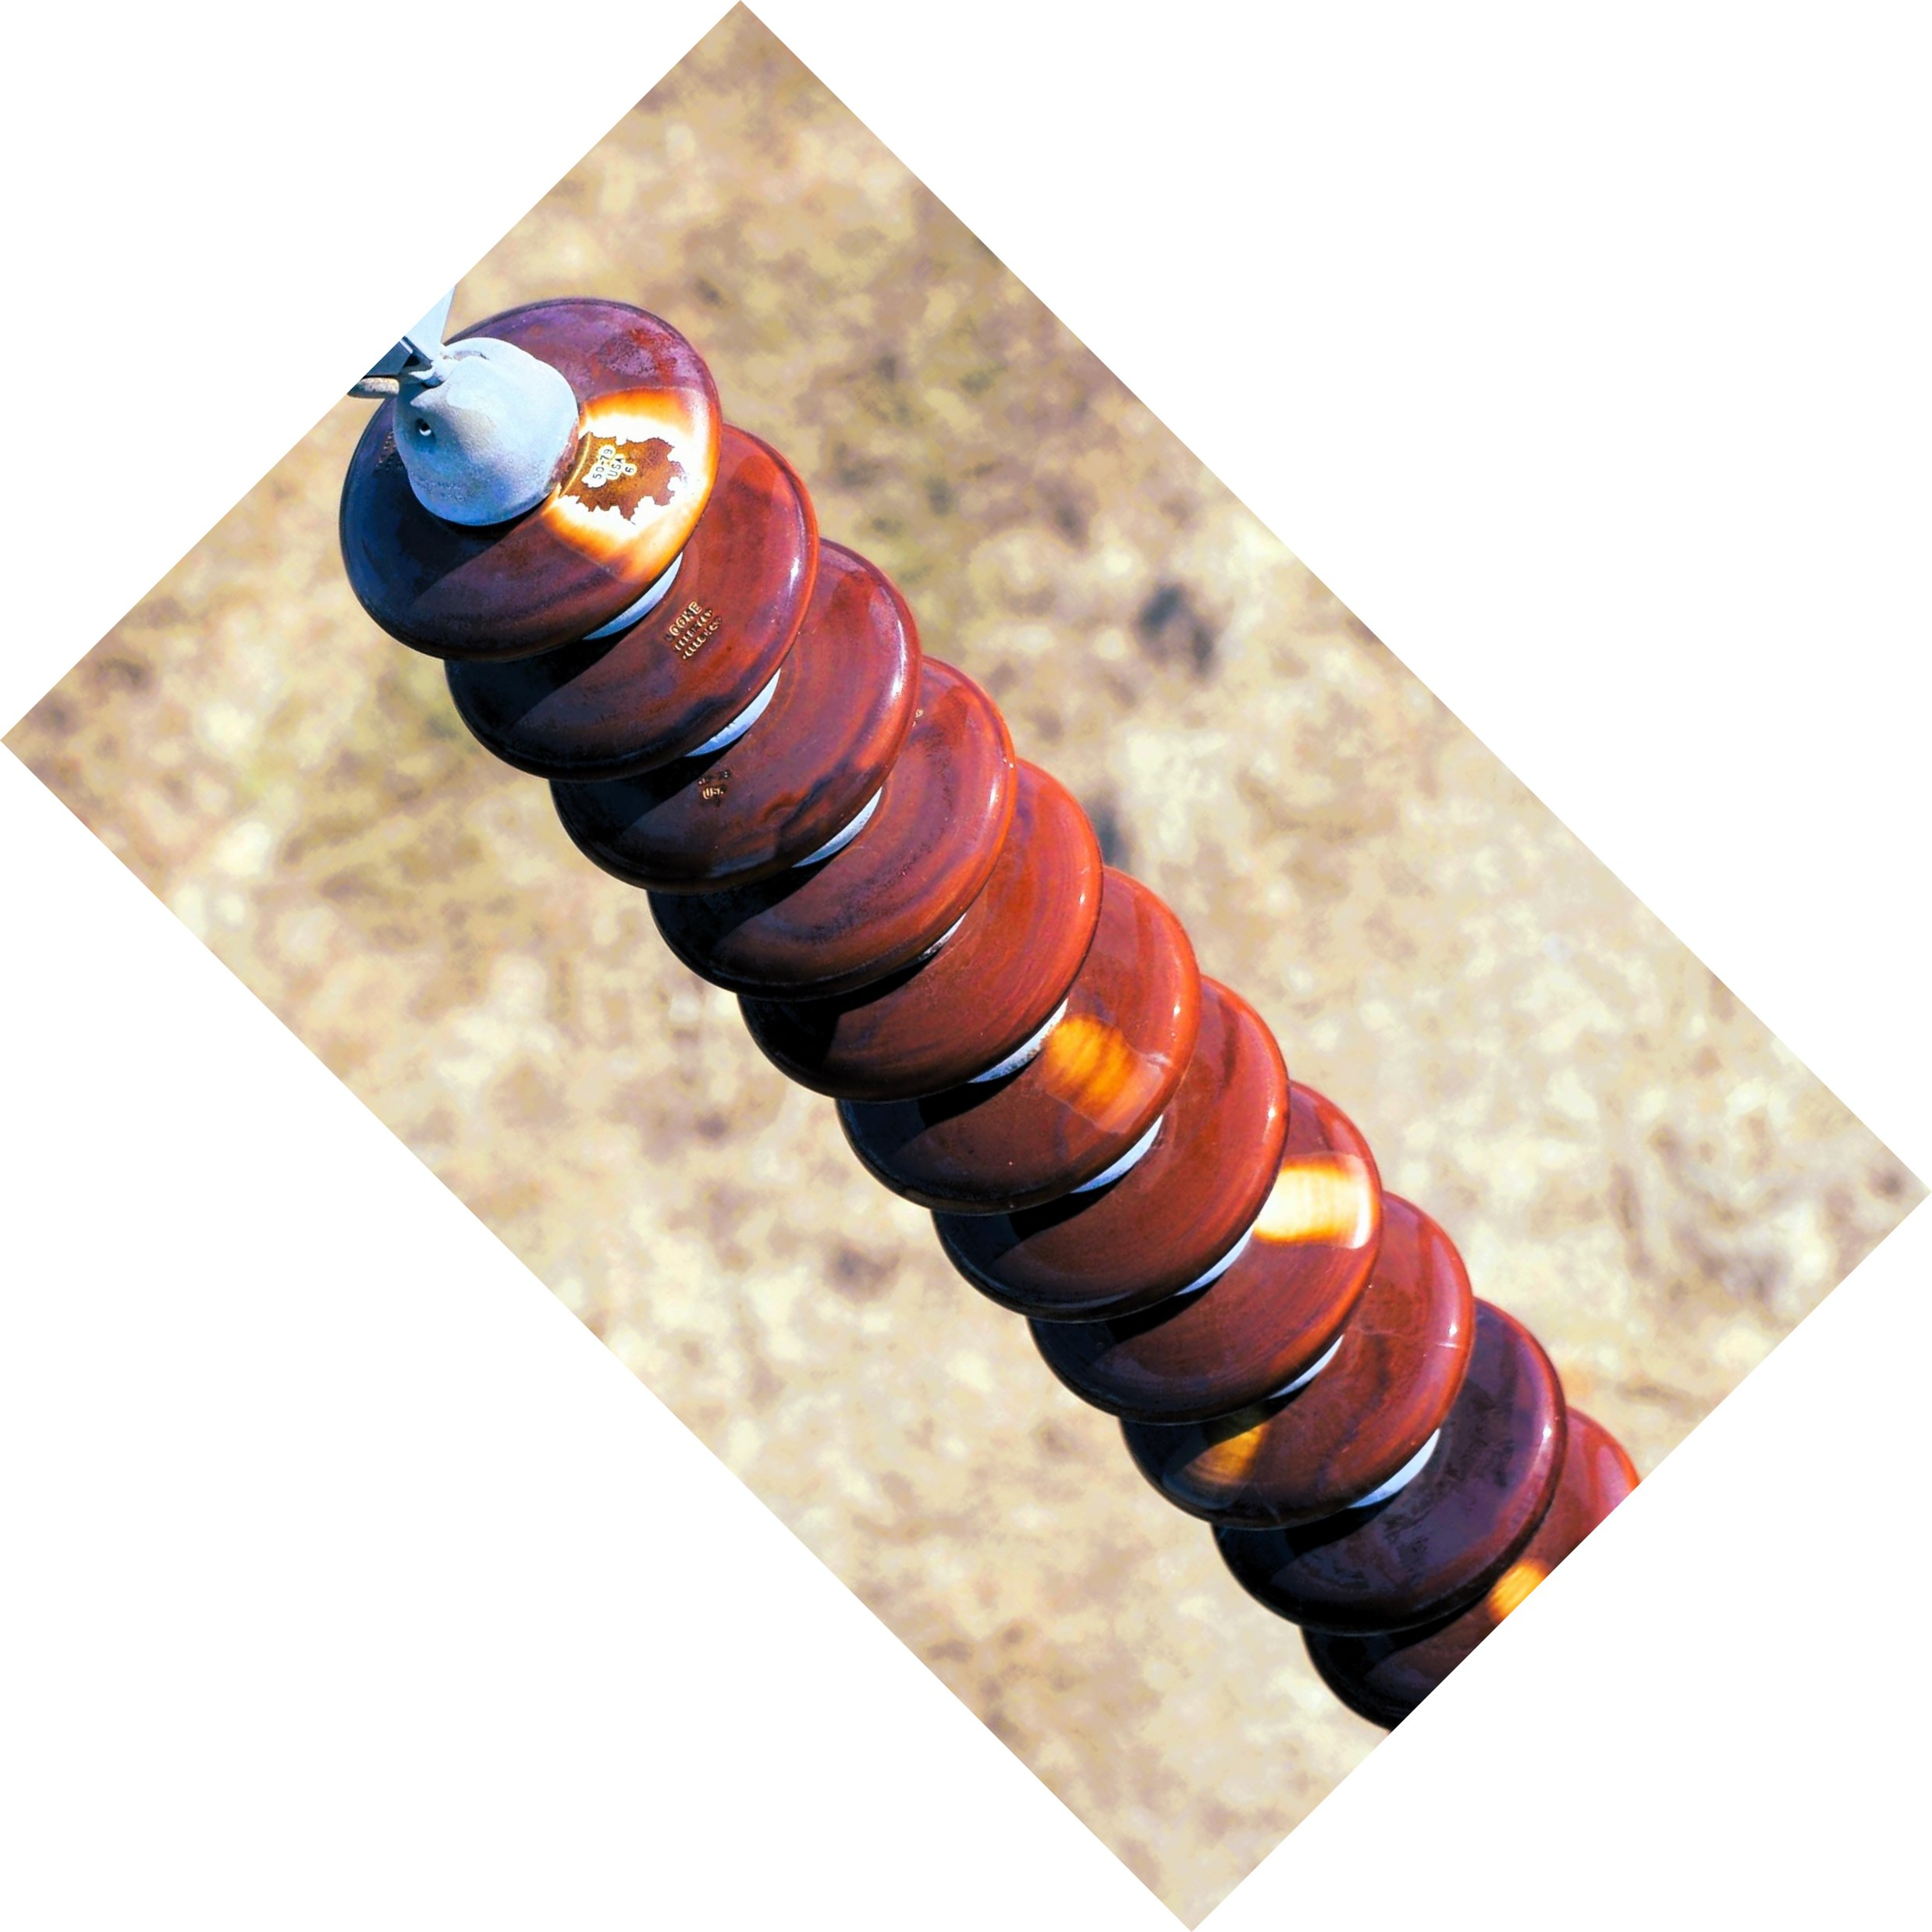Insulator flashover: (331, 285, 731, 669), (1039, 1058, 1399, 1431)
